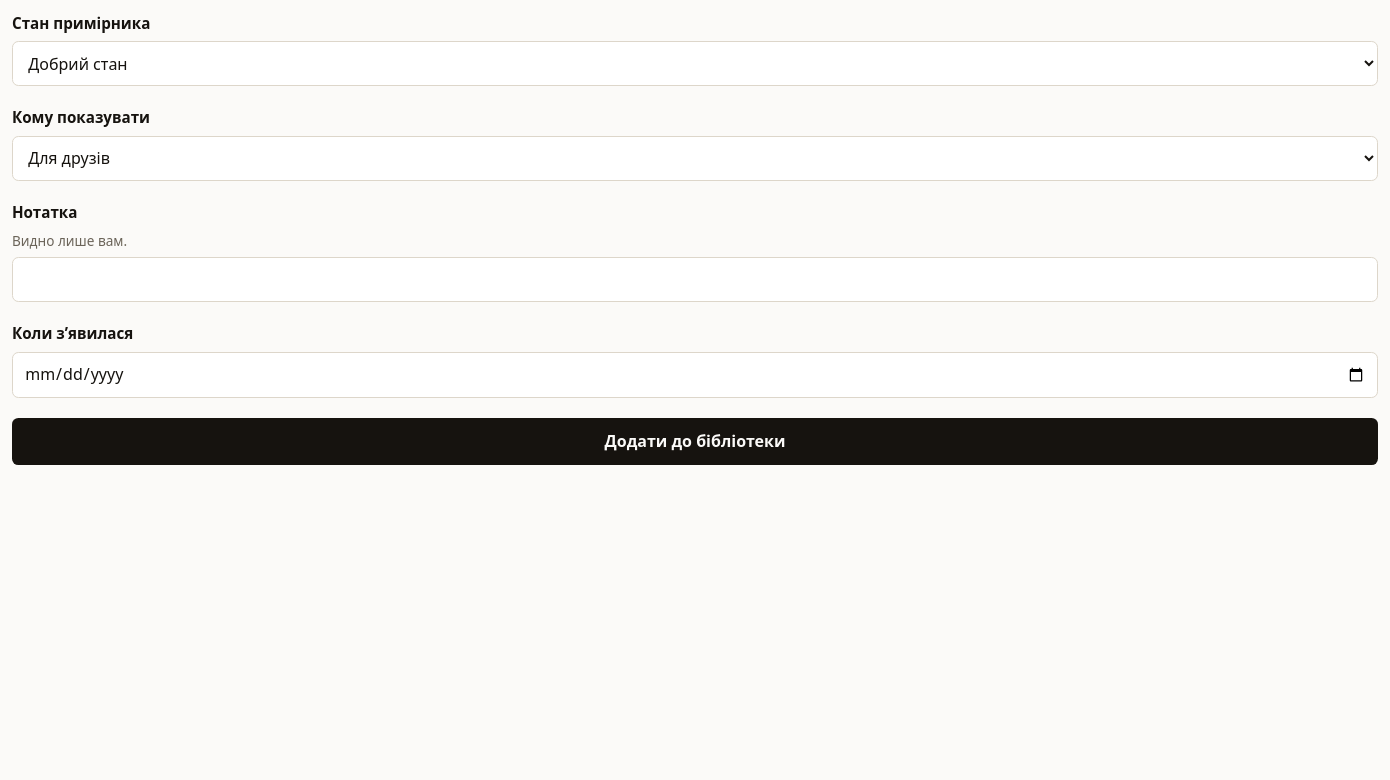
Test case: keeps entered copy metadata and exposes an API error
The width and height of the screenshot is (1390, 780).
Type "Особиста нотатка" into the field labelled "Нотатка" at (695, 280), box left=12, top=256, right=1378, bottom=302
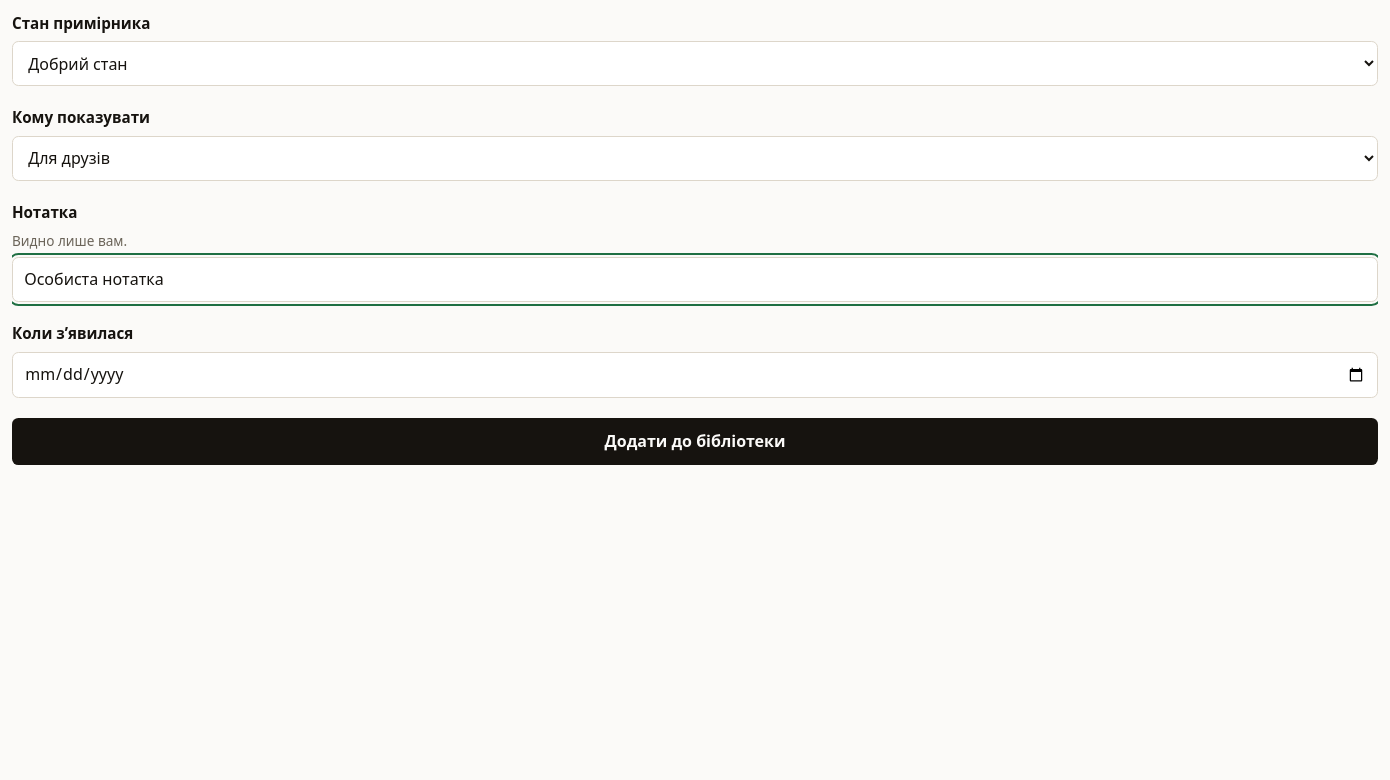
Type "2026-08-15" into the date field labelled "Коли зʼявилася" at (695, 375), box left=12, top=352, right=1378, bottom=398
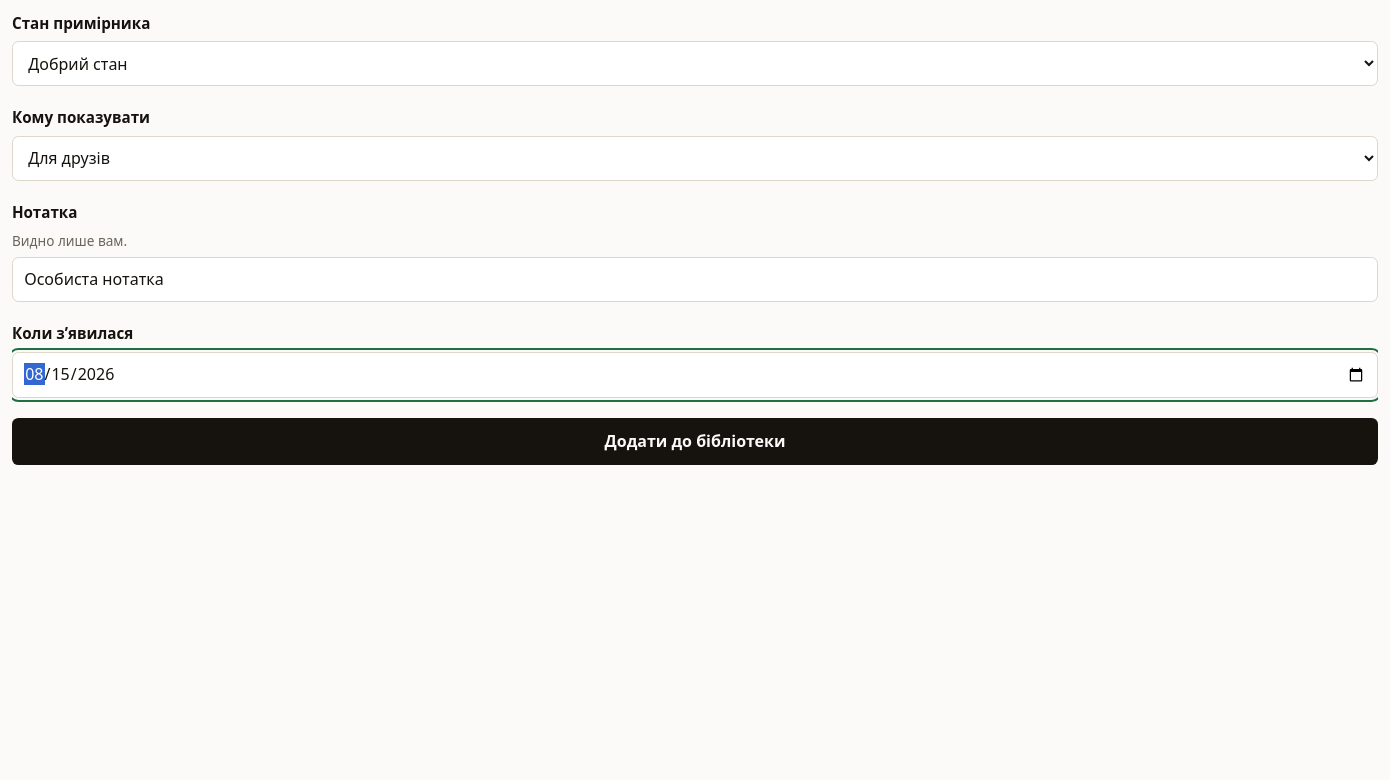
Click the button "Додати до бібліотеки" at (695, 441), box left=12, top=418, right=1378, bottom=465
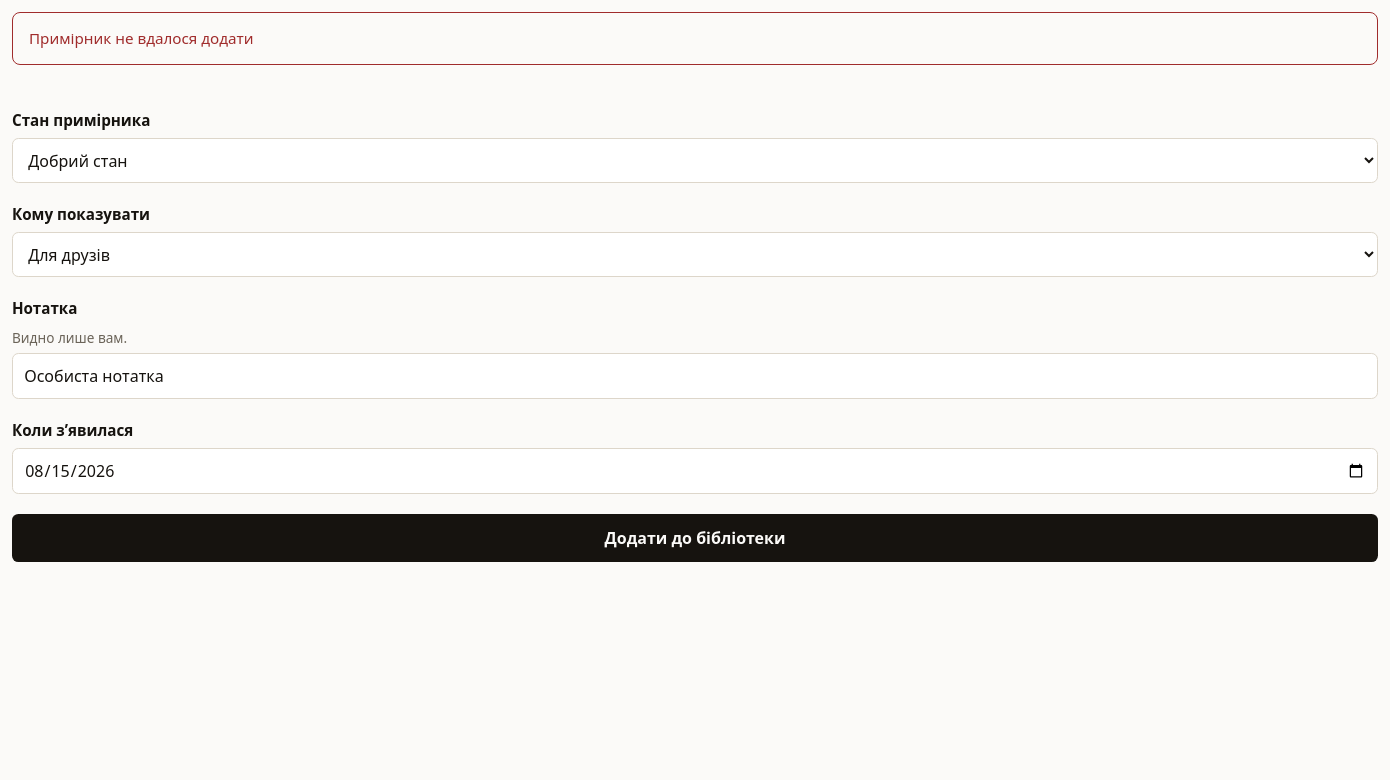
expect the text "Примірник не вдалося додати" is shown: met, box left=29, top=28, right=254, bottom=48
